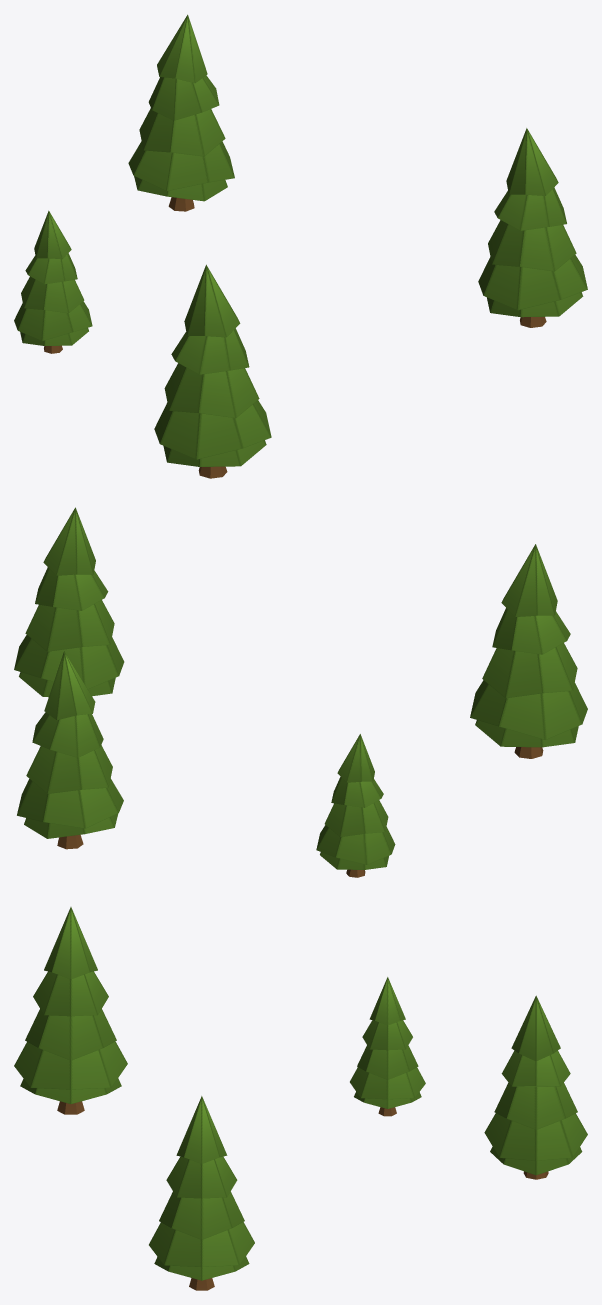
Rendered from pinetree.glb.
3 renders of one model, top to bottom at view 1: azimuth 30°, elevation 25°; view 2: azimuth 150°, elevation 25°; view 3: azimuth 270°, elevation 25°, orthographic. The views are drawn at different scales.
Visible parts, largest first — view 1: Object_2.002, Object_2.009, Object_2.005, Object_2.004; view 2: Object_2.002, Object_2.005, Object_2.009, Object_2.004; view 3: Object_2.002, Object_2.009, Object_2.005, Object_2.004.
Boxes of the visible parts, x1,y1,x2,y2 form: Object_2.002: (154,264,271,478); Object_2.009: (478,128,587,327); Object_2.005: (128,14,234,211); Object_2.004: (14,210,92,353); Object_2.002: (470,544,587,758); Object_2.005: (17,651,123,849); Object_2.009: (14,507,124,697); Object_2.004: (316,734,395,877); Object_2.002: (14,907,127,1114); Object_2.009: (149,1096,254,1290); Object_2.005: (484,995,587,1179); Object_2.004: (350,977,425,1116).
Size of the model in its own units: 9.66 by 4.26 by 10.23.
Materials: 4 (4 with a texture image).
